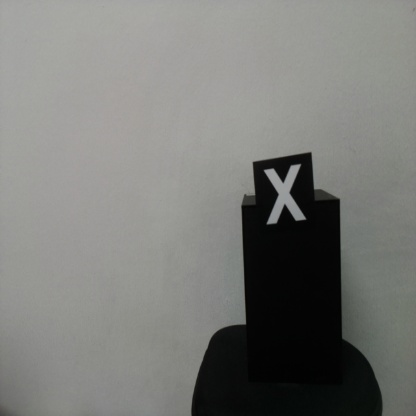id_13: (254, 161, 315, 236)
